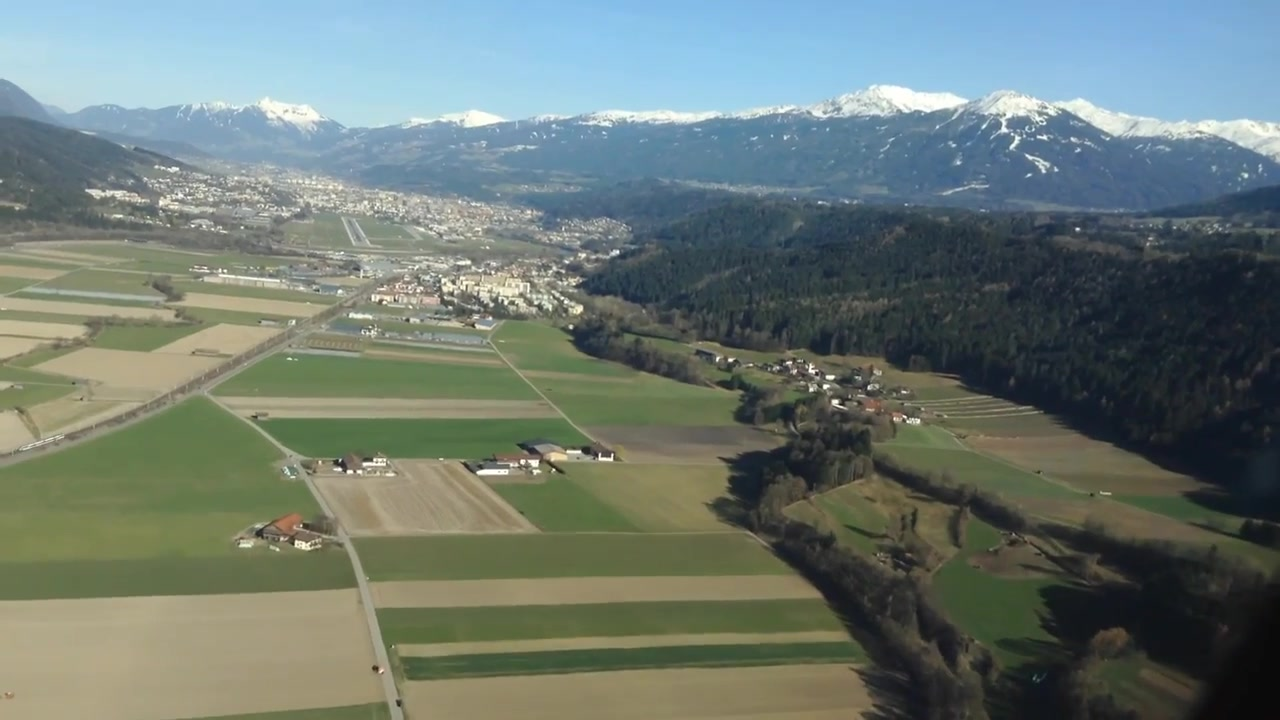runway: (342, 217, 372, 248)
